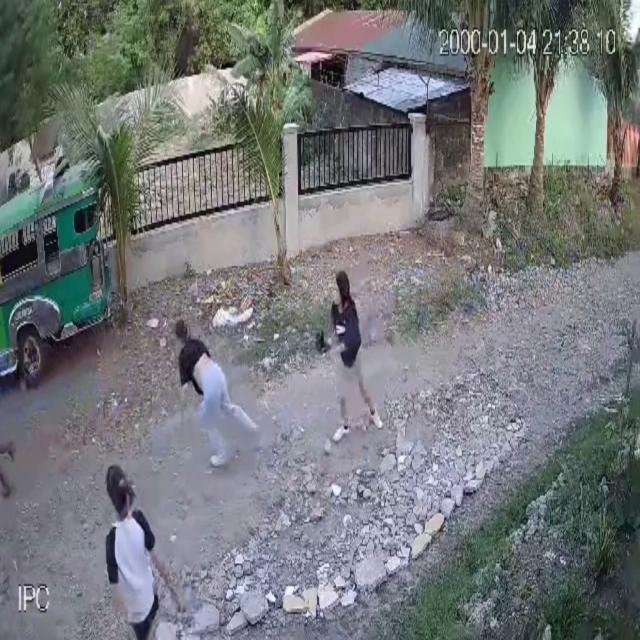running: (168, 312, 263, 478), (103, 460, 185, 640), (314, 267, 387, 447)
